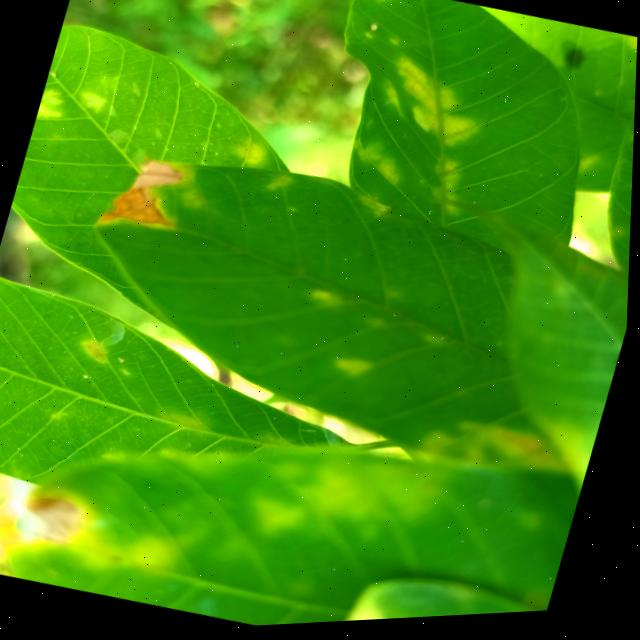Leaf-Blight: (98, 152, 193, 243)
